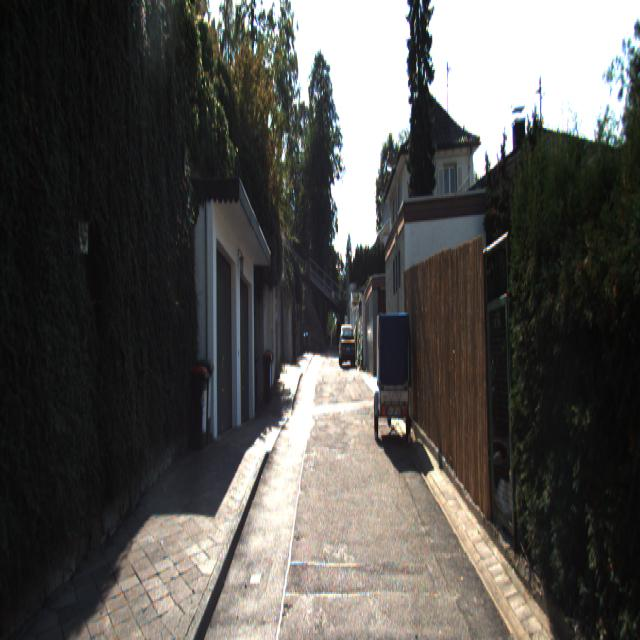Car: (374, 302, 416, 440), (338, 322, 356, 368)
